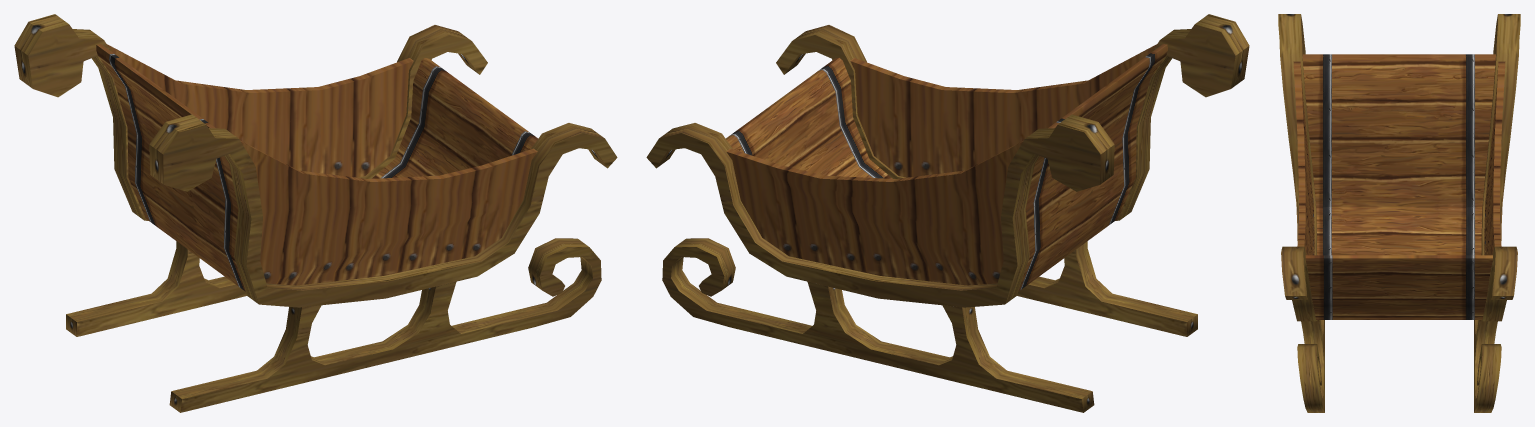
Rendered from Sleigh_01.FBX.
The picture shows the model from 3 angles, left to right: view 1: azimuth 30°, elevation 25°; view 2: azimuth 150°, elevation 25°; view 3: azimuth 270°, elevation 25°; orthographic projection. The views are drawn at different scales.
Parts seen in each view (by area): view 1: Sleigh_01; view 2: Sleigh_01; view 3: Sleigh_01.
Boxes of the visible parts, bbox=[...] form: Sleigh_01: bbox=[14, 14, 617, 412]; Sleigh_01: bbox=[646, 14, 1249, 412]; Sleigh_01: bbox=[1278, 14, 1520, 412].
Size of the model in its own units: 360 by 226 by 206.
